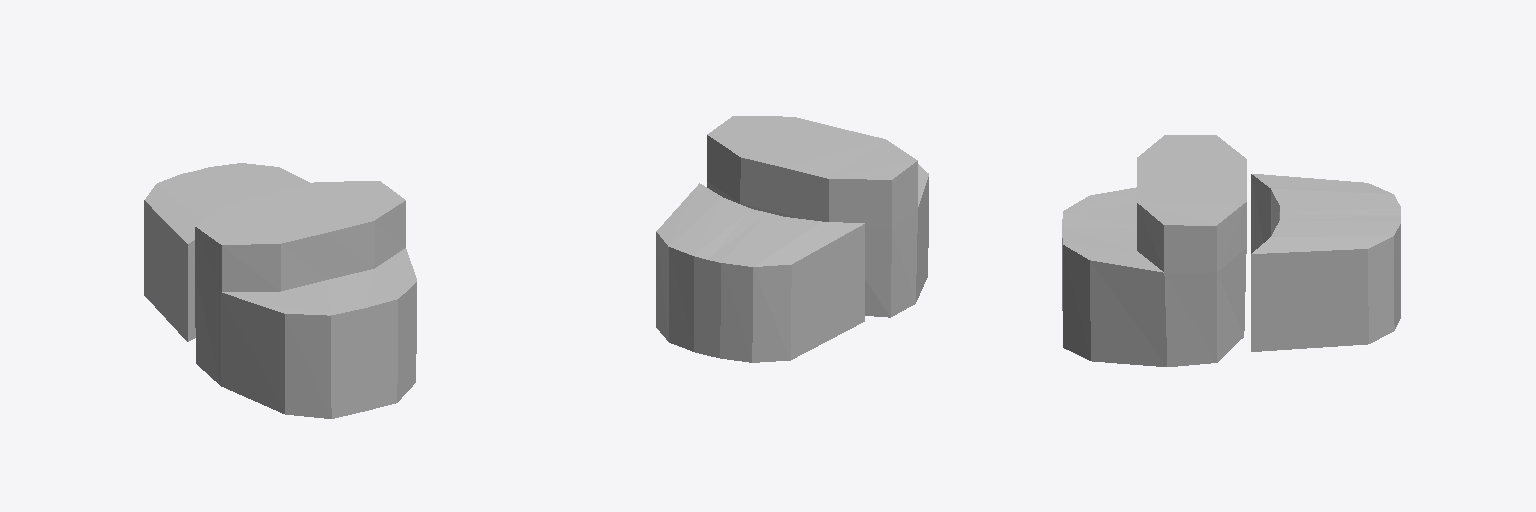
File: Light.obj
3 views of the same model, side by side, from view 1: azimuth 30°, elevation 25°; view 2: azimuth 150°, elevation 25°; view 3: azimuth 270°, elevation 25° (orthographic).
Visible parts, largest first — view 1: polySurface1; view 2: polySurface1; view 3: polySurface1.
Boxes of the visible parts, <box> form: polySurface1: <box>144,163,416,418</box>; polySurface1: <box>656,116,928,362</box>; polySurface1: <box>1062,135,1400,366</box>.
Bounding box in the file's own units: 1.95 × 1.53 × 3.98.